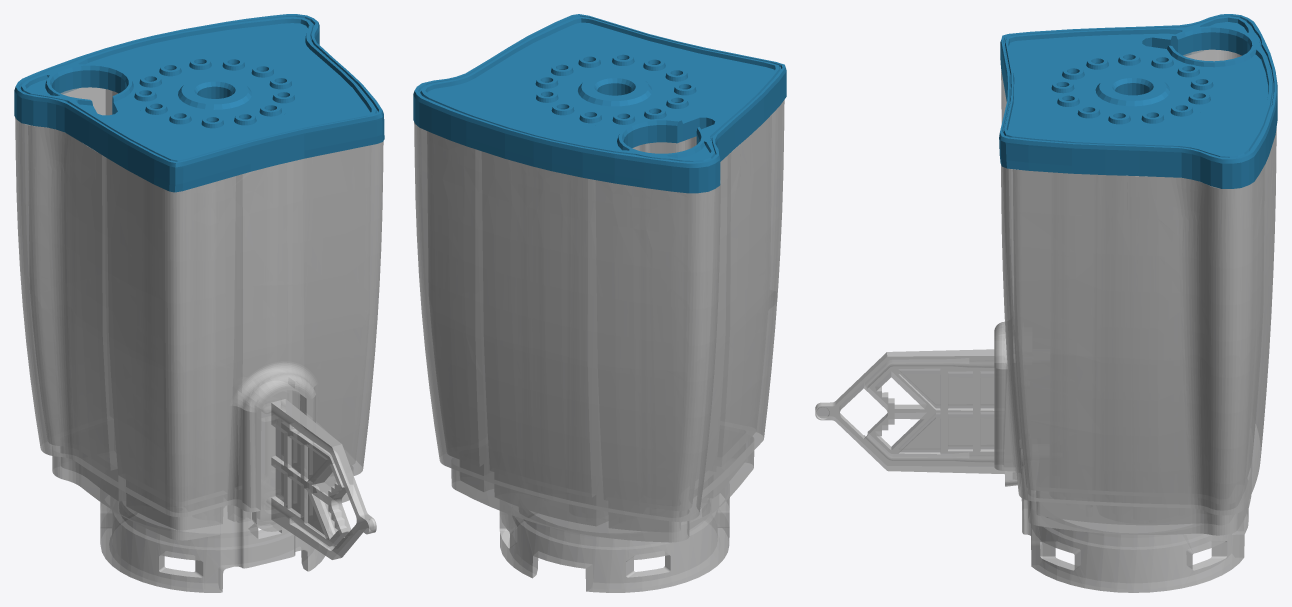
Rendered from cartridge.fbx.
The picture shows the model from 3 angles, left to right: view 1: azimuth 30°, elevation 25°; view 2: azimuth 150°, elevation 25°; view 3: azimuth 270°, elevation 25°; orthographic projection.
Parts seen in each view (by area): view 1: cartridge, polySurface36, laserthingy; view 2: cartridge, polySurface36; view 3: cartridge, polySurface36, laserthingy.
Part boxes in pixels (x1,y1,x2,y2): cartridge: (15,87,383,592); polySurface36: (14,14,384,192); laserthingy: (252,390,376,559); cartridge: (414,100,784,592); polySurface36: (413,14,786,193); cartridge: (994,49,1276,592); polySurface36: (999,14,1277,188); laserthingy: (815,349,1017,486).
Size of the model in its own units: 41.95 by 61.16 by 56.
